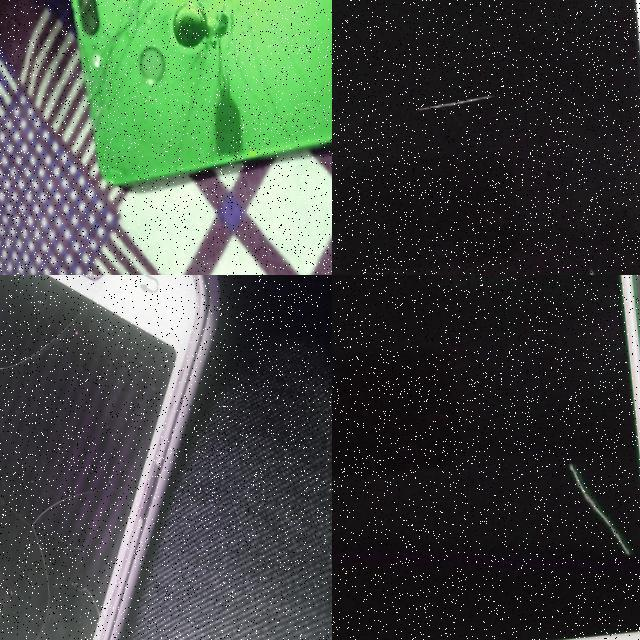scratch: (563, 471, 624, 573), (407, 101, 492, 122)
screen crack: (0, 275, 143, 640)
